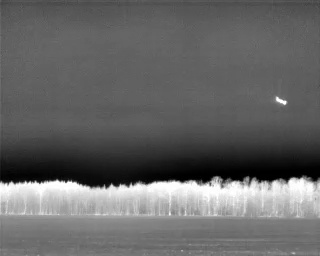DRONE: (271, 92, 291, 109)
